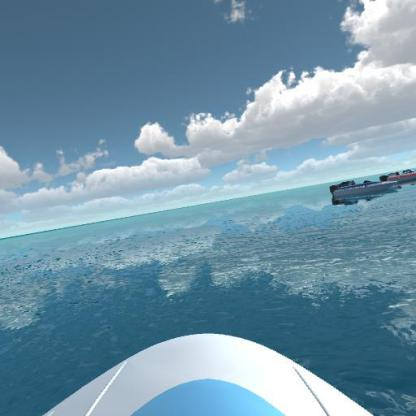usv1: (327, 176, 399, 206)
usv3: (380, 163, 416, 188)
